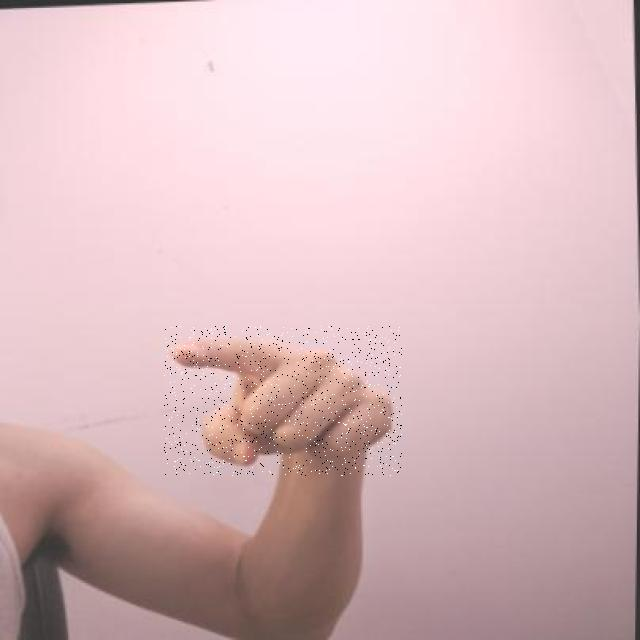Z: (164, 326, 402, 476)
